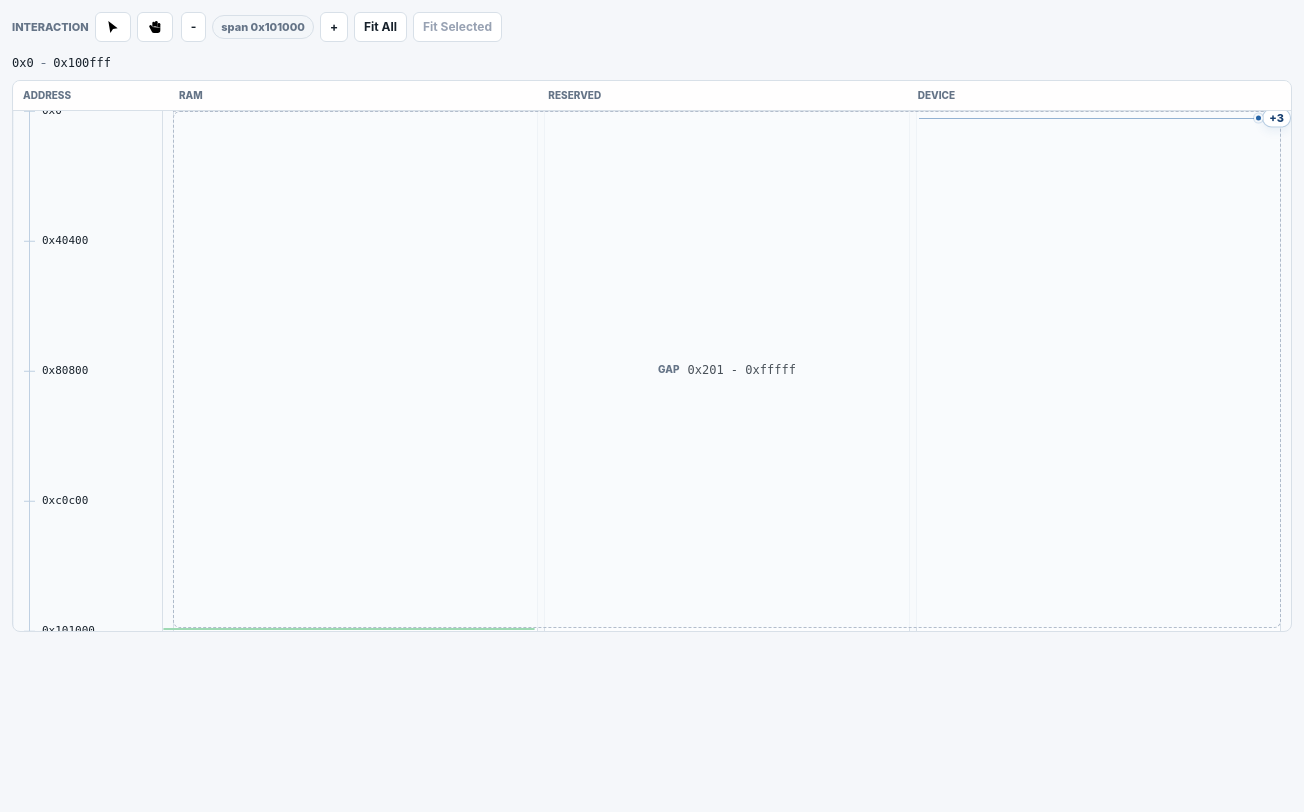
Test case: AddressSpaceMap › clusters dense marker regions and drills into the cluster
Click the button named "Zoom into 3 address regions": (1277, 118) [919,111,1291,125]
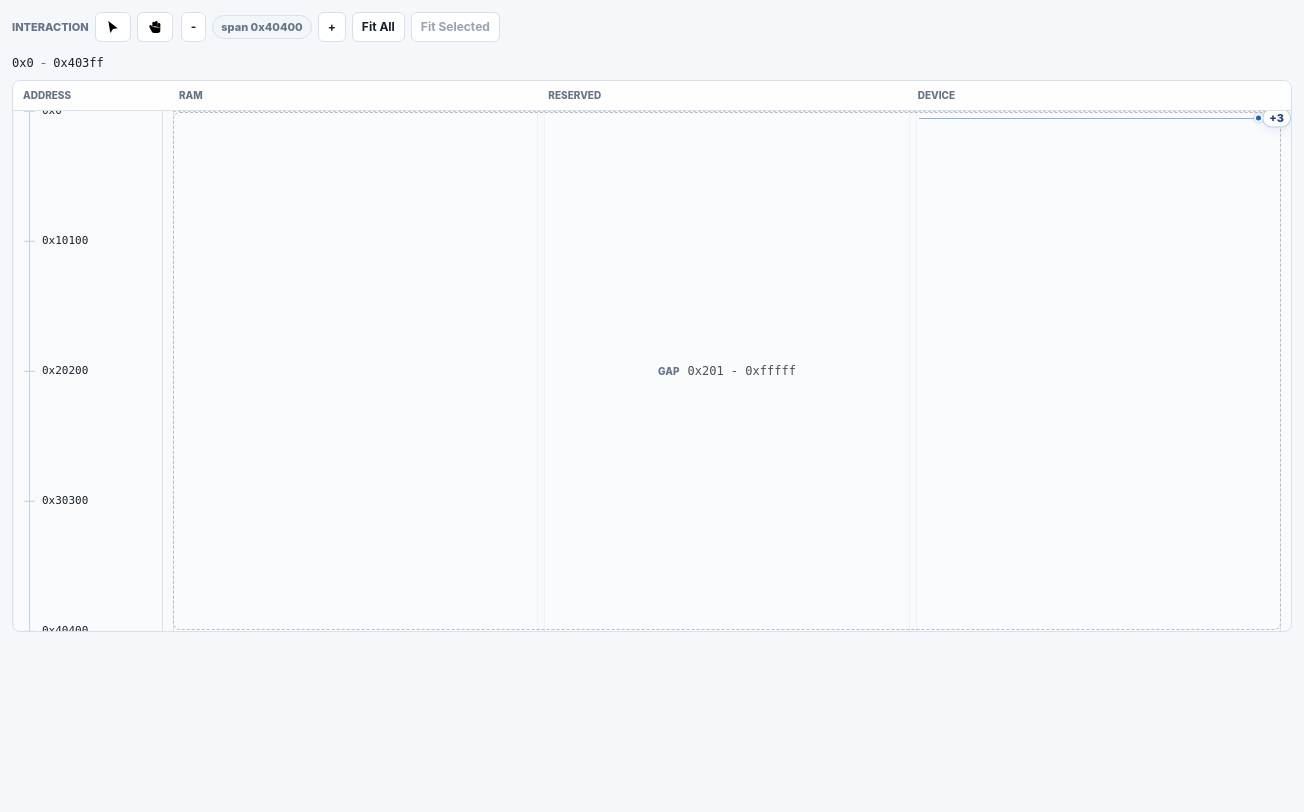
Check: the text "span 0x40400" is shown, box [212,15,312,39]
Click the button named "Zoom into 3 address regions": (1277, 118) [919,111,1291,125]
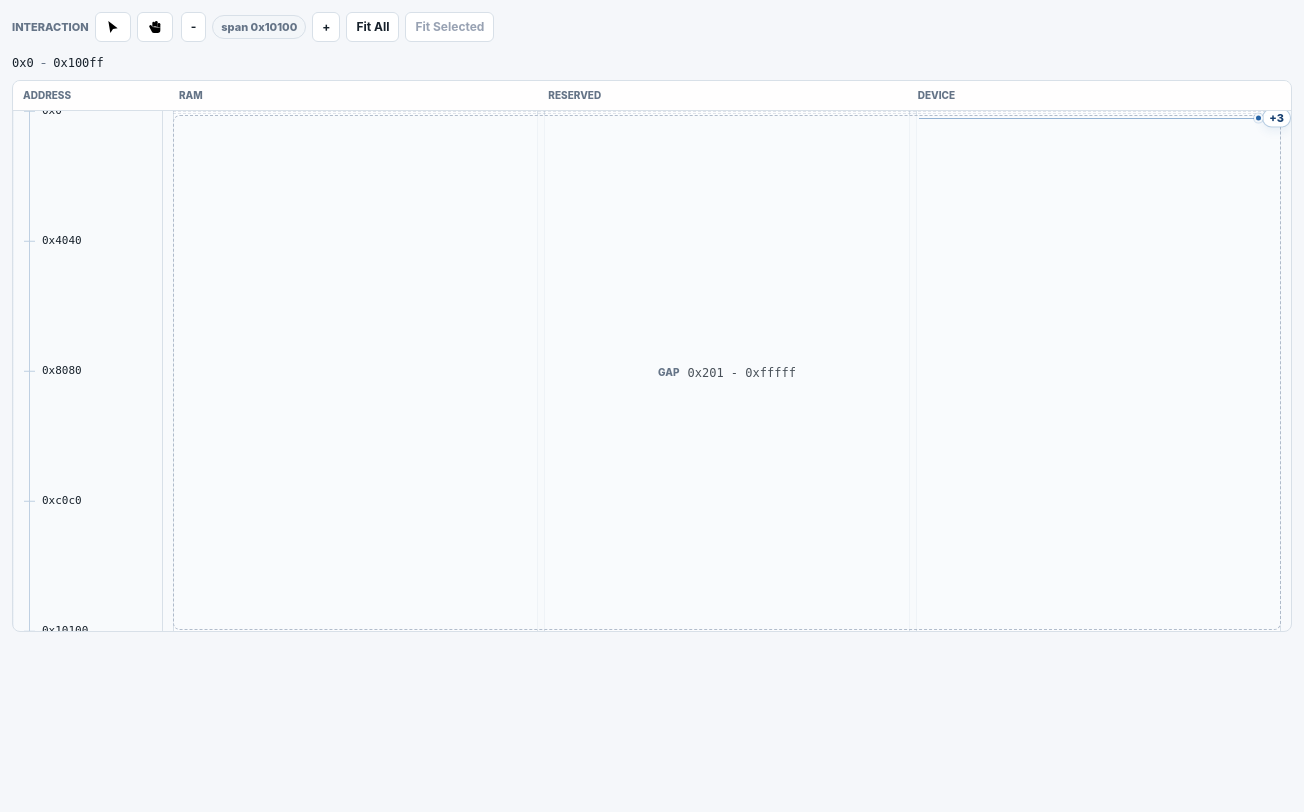
Check: the text "span 0x10100" is shown, box [212,15,306,39]
